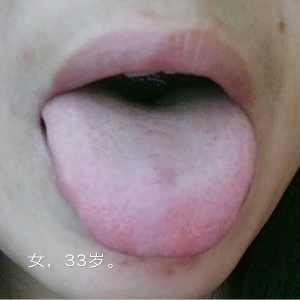st: (41, 102, 260, 255)
